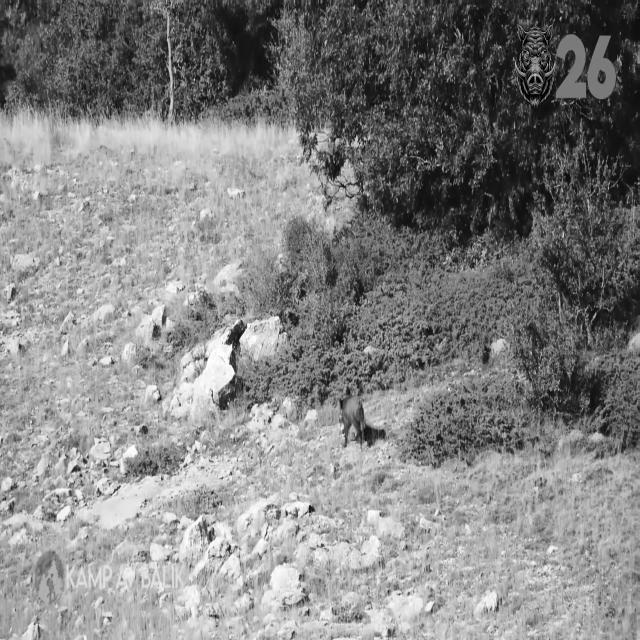boar: (339, 396, 365, 446)
